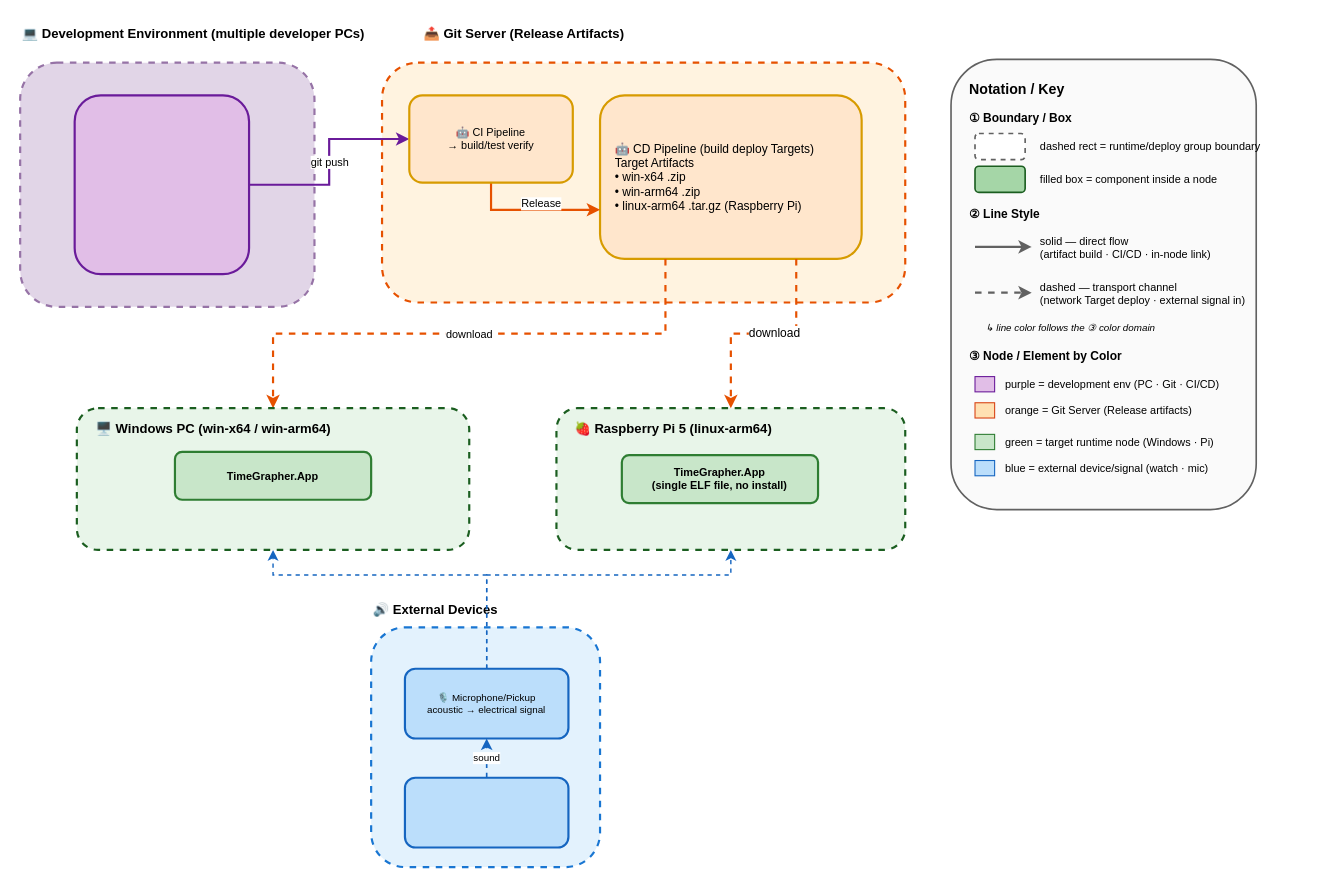
Some shapes in this 1340 by 886 pixel diagram are drawn without their labels. Each missing label, with the centre of its shape:
"Developer PC (VS Code) • C#/.NET development • Source Code" goes at point (161, 184).
"⏰ Mechanical Watch Acoustic beat signal (T1/T2/T3)" goes at point (486, 812).
